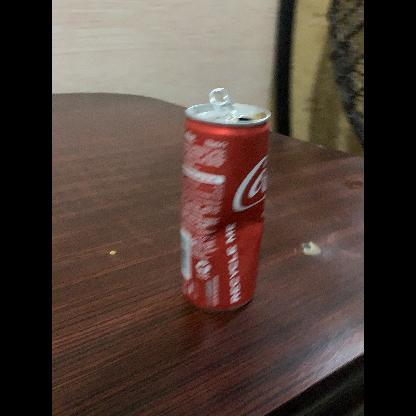Dent_Can: (202, 216, 265, 276), (188, 226, 221, 284)
Lid_Open: (201, 83, 255, 131)
Tin_Can: (170, 86, 278, 328)
